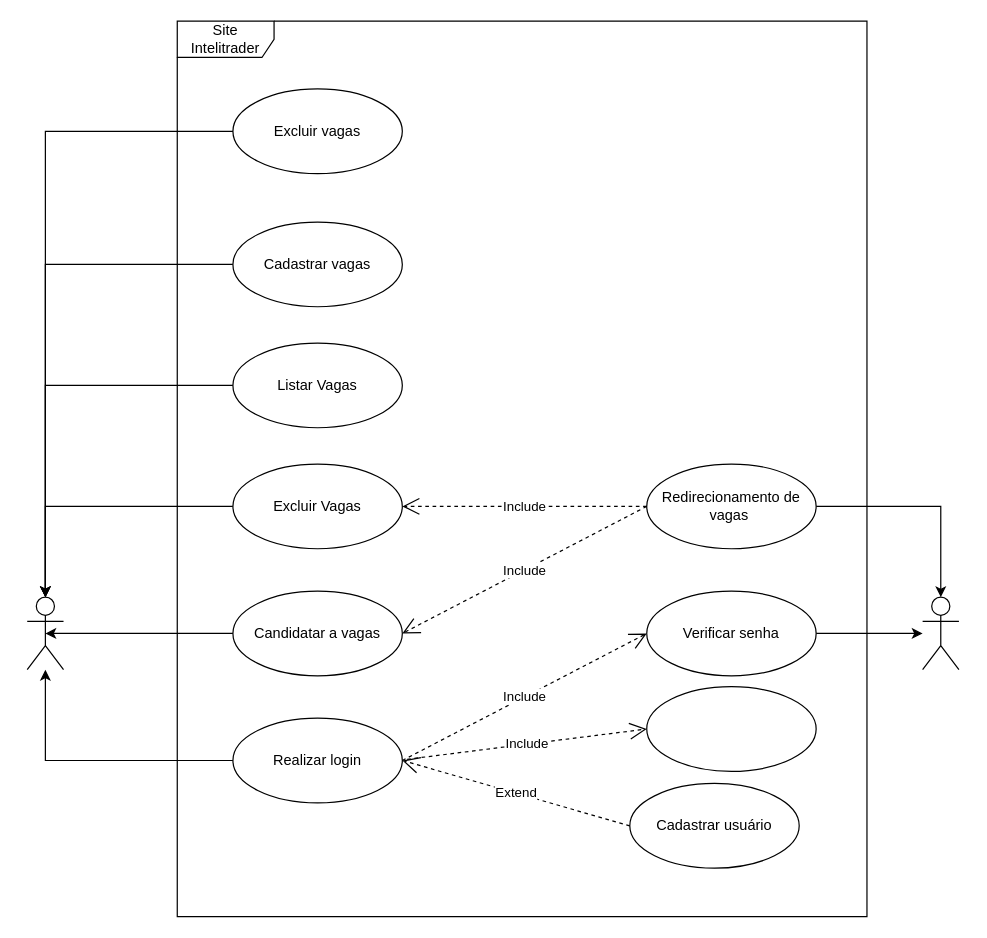
Image size: 987x938. Some labels were removed from this diagram. The shapes that lost their labels are listed below. From the top down, each one's centre as x and y in pixels, then its label:
At [45,633]: "Usuário".
At [940,633]: "Sistema".
At [731,728]: "Verificar email".
